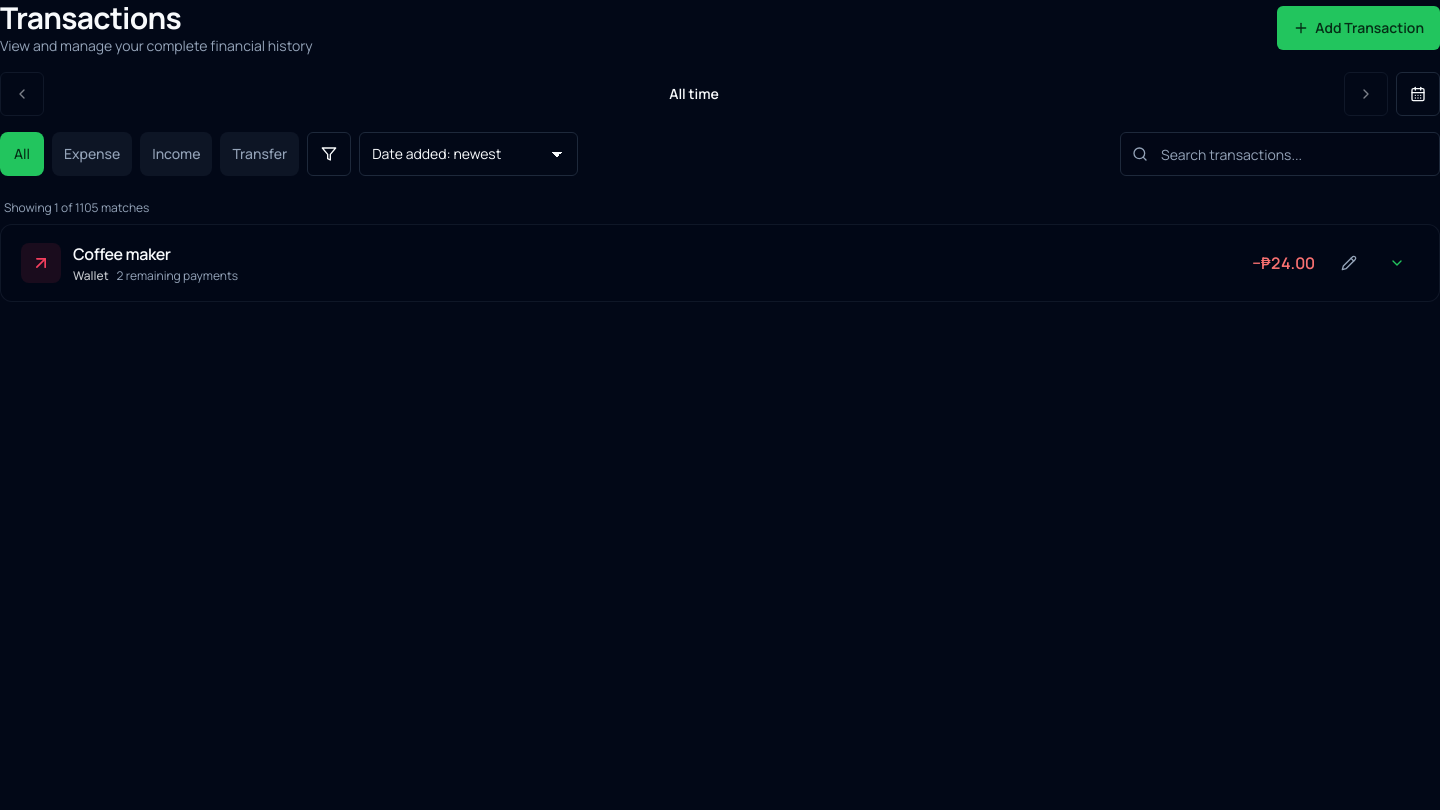
Scenario: transactions history pagination › confirms that deleting one installment leaves the remaining schedule
Click the button with aria-label "show payment schedule" at (41, 263), box x1=21 y1=241 x2=1236 y2=285
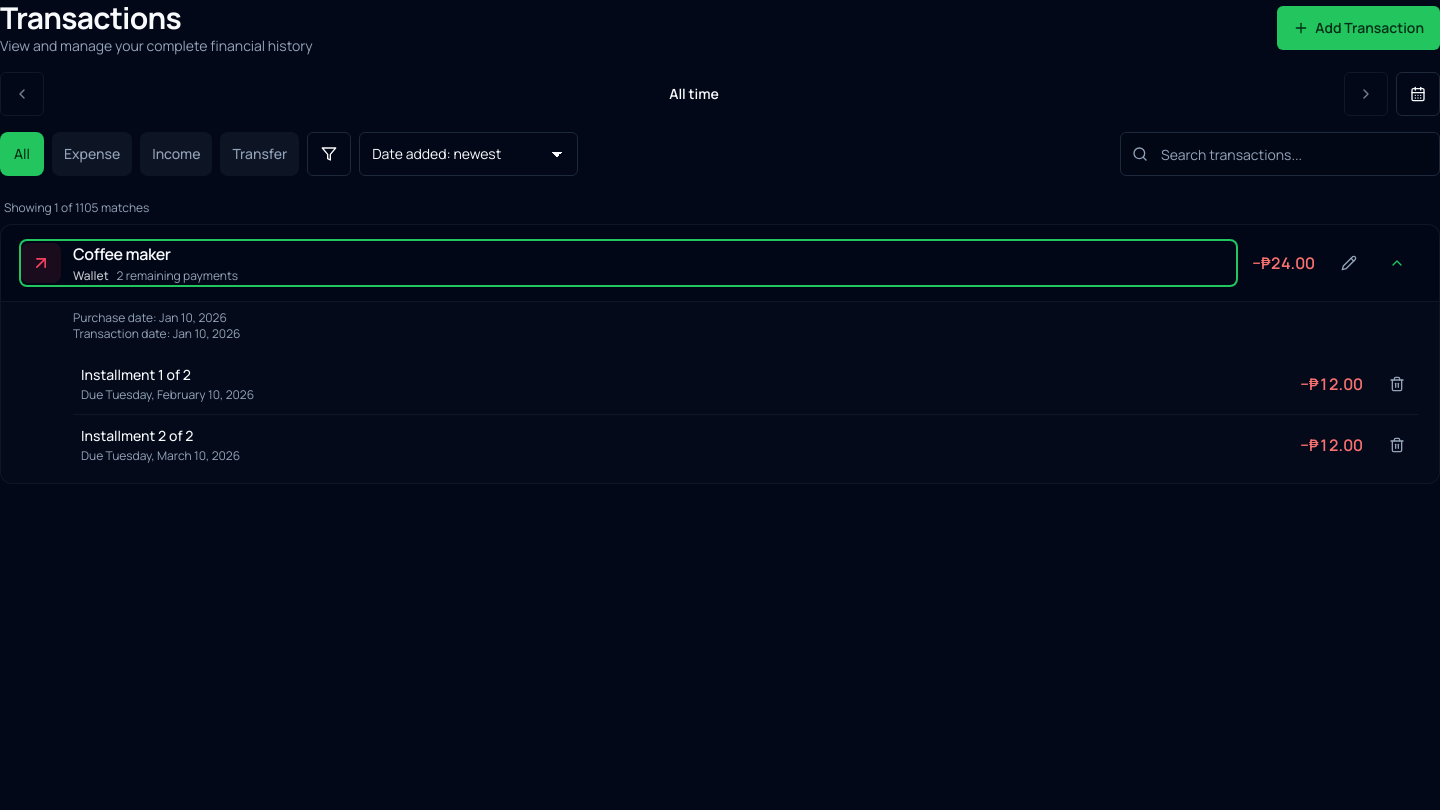
Click the button named "Delete installment 1" at (1397, 384), box x1=1375 y1=362 x2=1419 y2=406
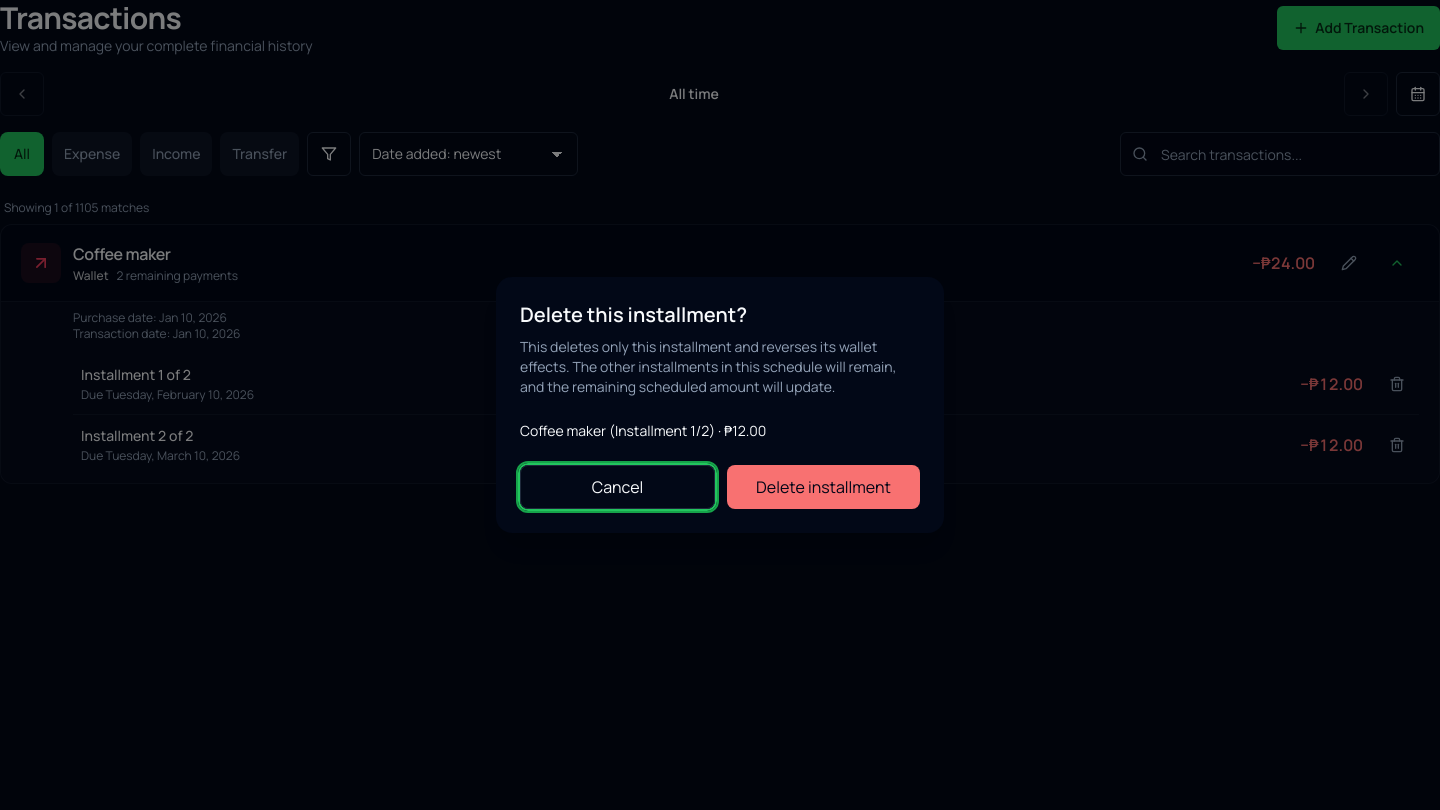
Expected: the dialog shows "deletes only this installment", x1=520 y1=337 x2=896 y2=396
Expected: the dialog shows "other installments in this schedule will remain", x1=520 y1=337 x2=896 y2=396
Expected: the button "Delete installment" is shown, x1=727 y1=465 x2=920 y2=509
